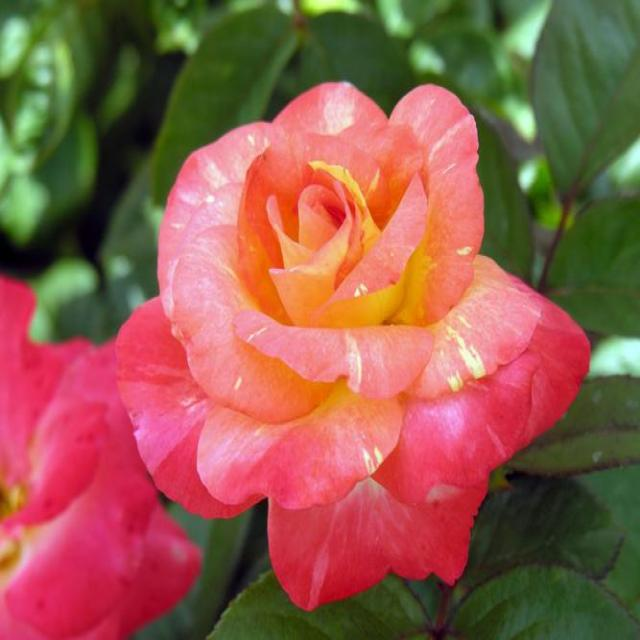rose: (111, 59, 588, 596)
